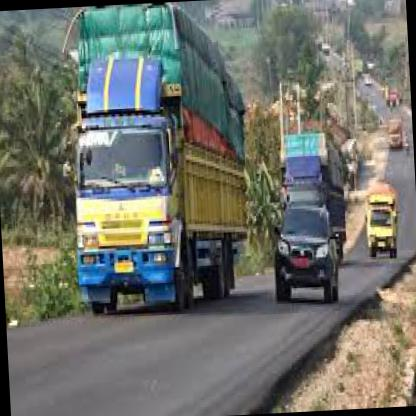truck: (69, 110, 192, 320), (365, 204, 397, 263)
